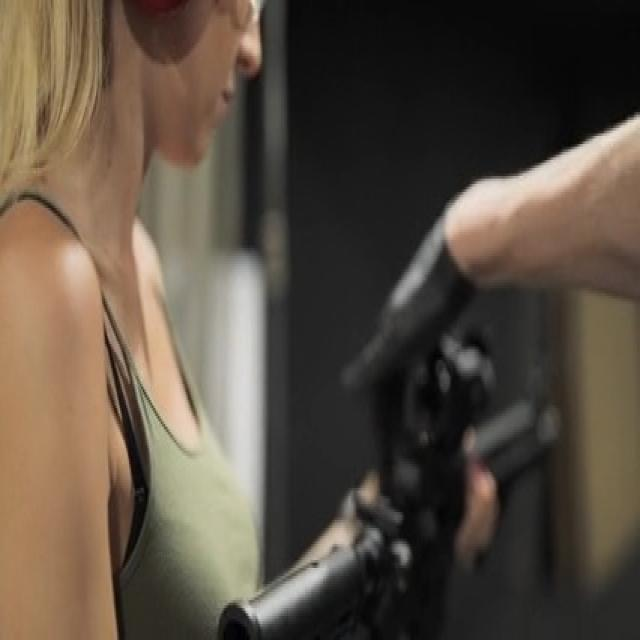Gun_Holder: (207, 317, 631, 640)
Person: (1, 0, 309, 640)
